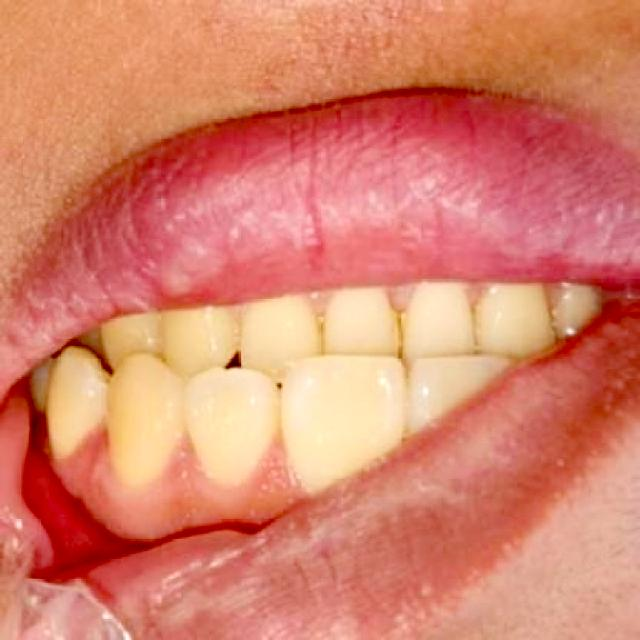Plaque: (72, 417, 131, 482)
